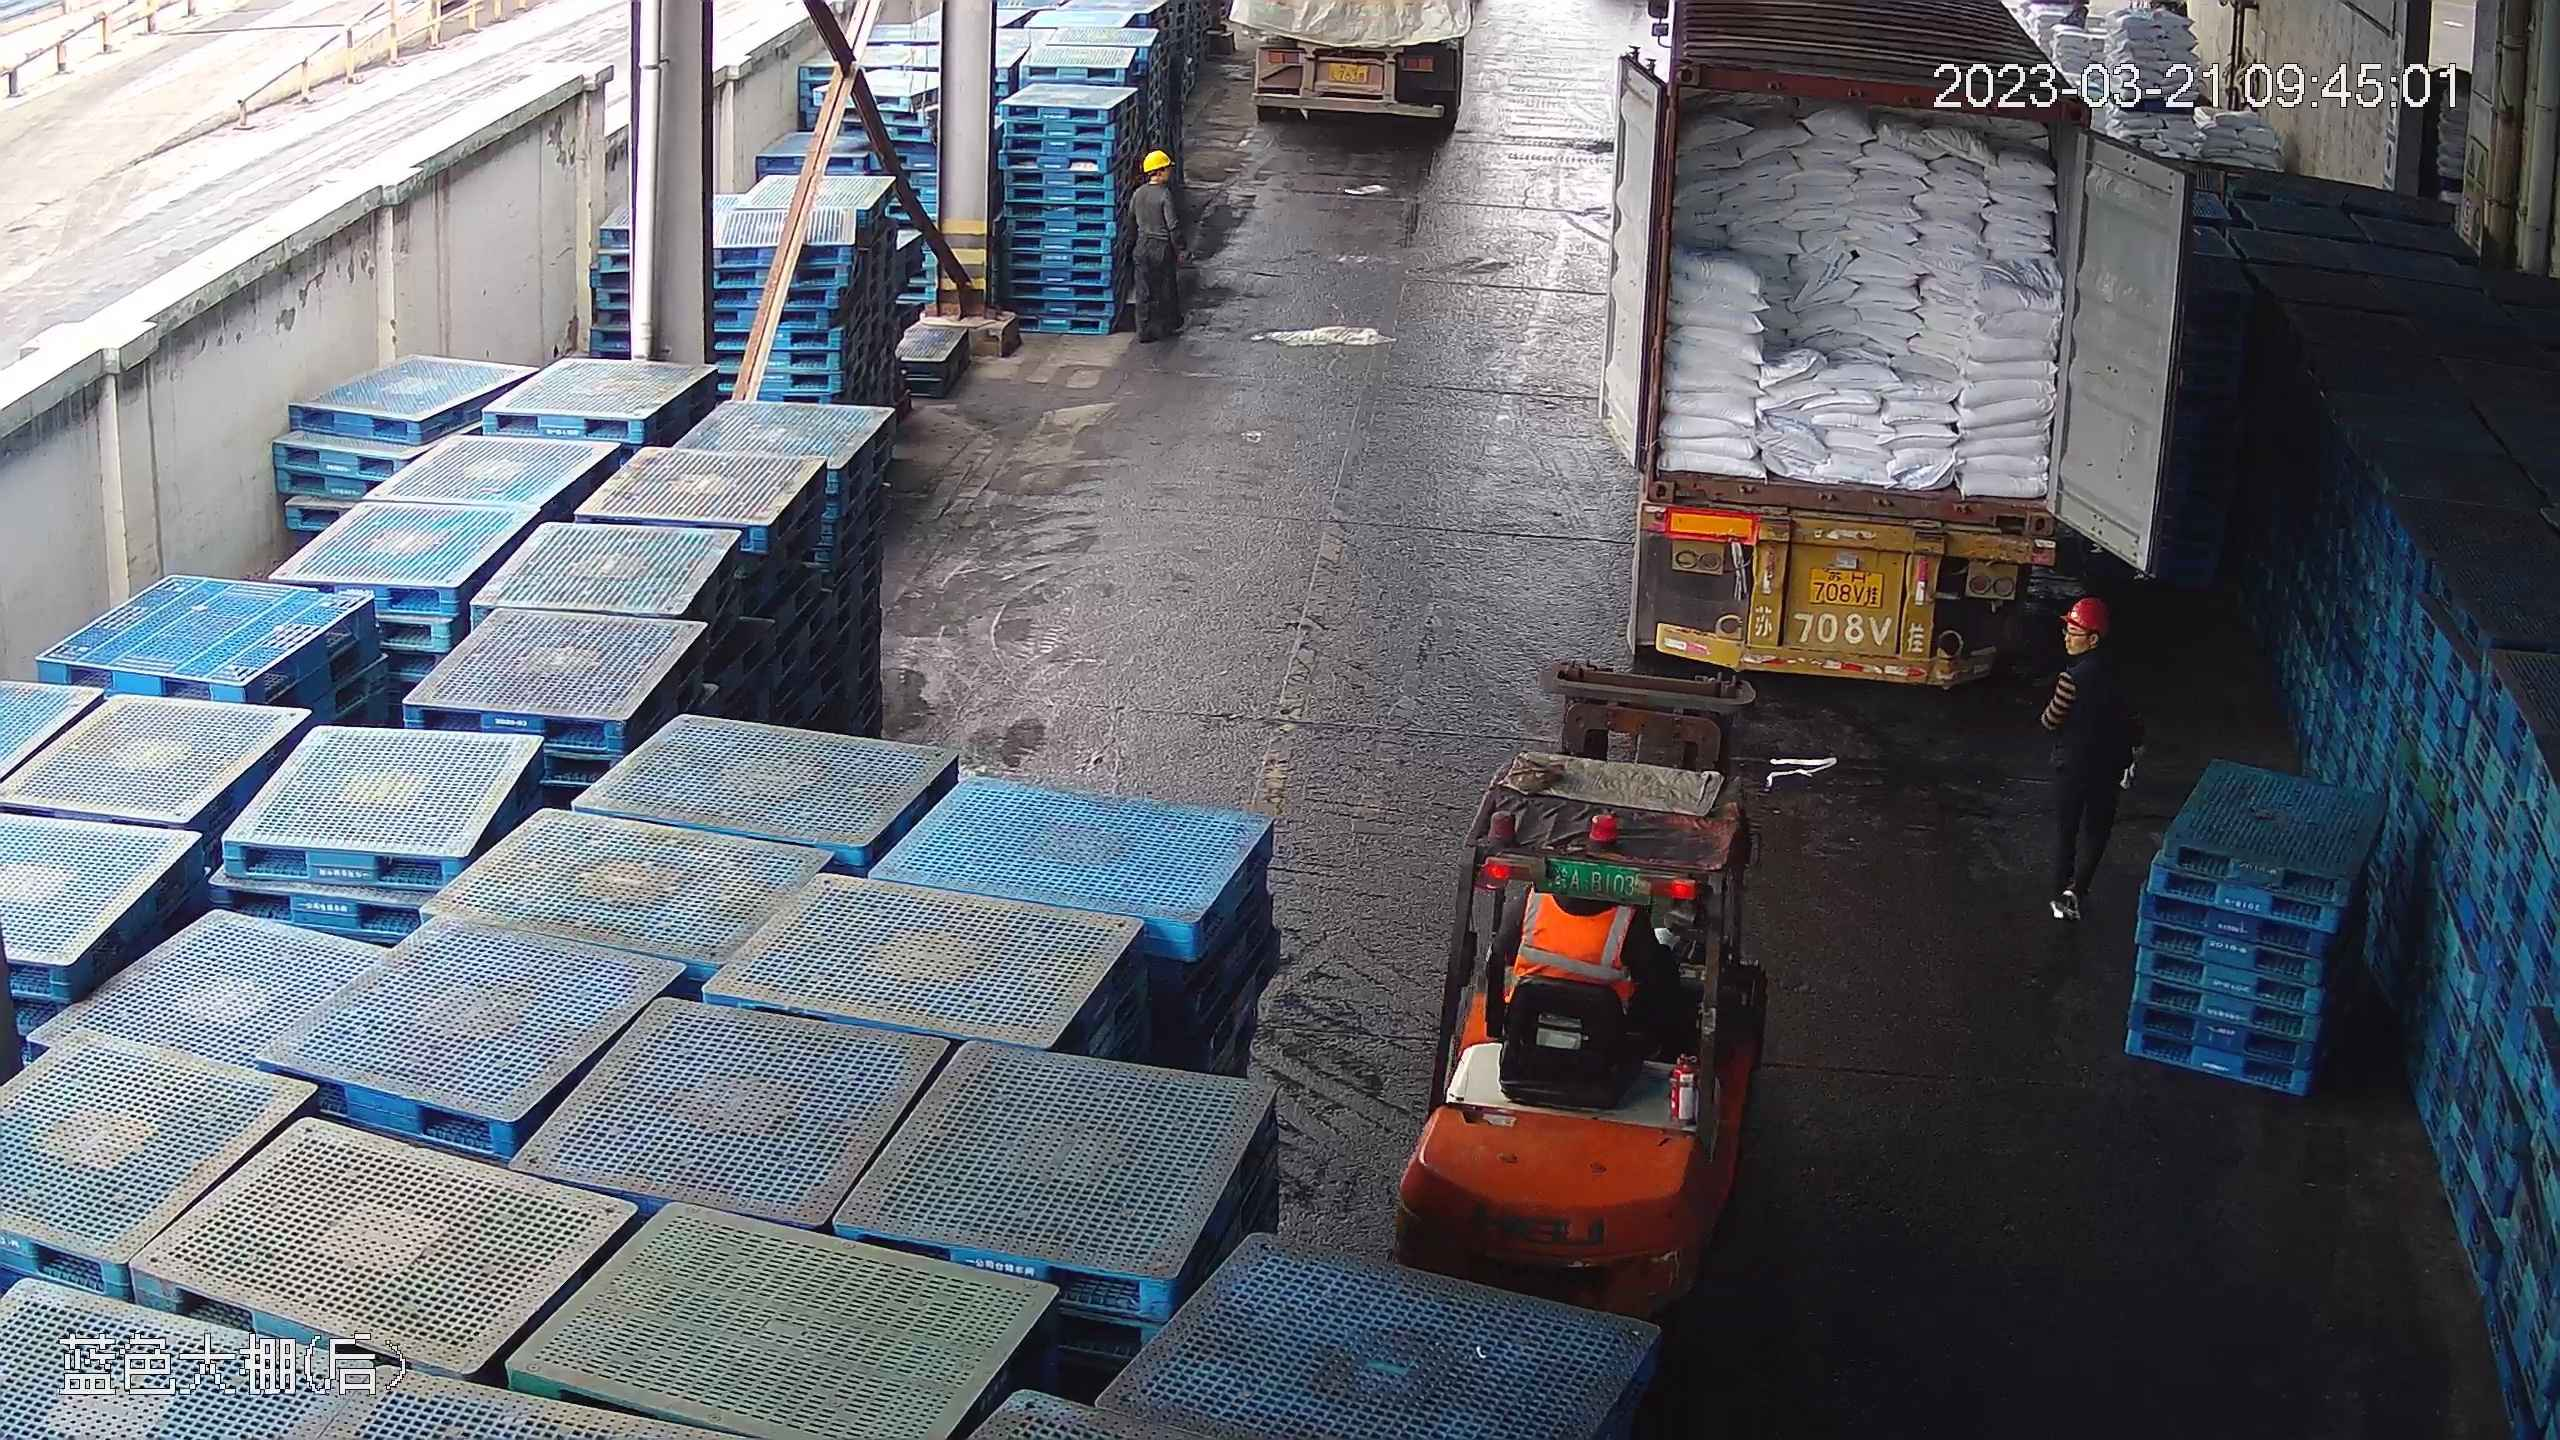head: (2049, 595, 2125, 693), (1135, 147, 1190, 220)
helmet: (2065, 595, 2110, 635), (1141, 148, 1173, 172)
people: (2031, 592, 2138, 922), (1129, 146, 1196, 350)
truck: (1599, 12, 2106, 695), (1247, 1, 1470, 122)
